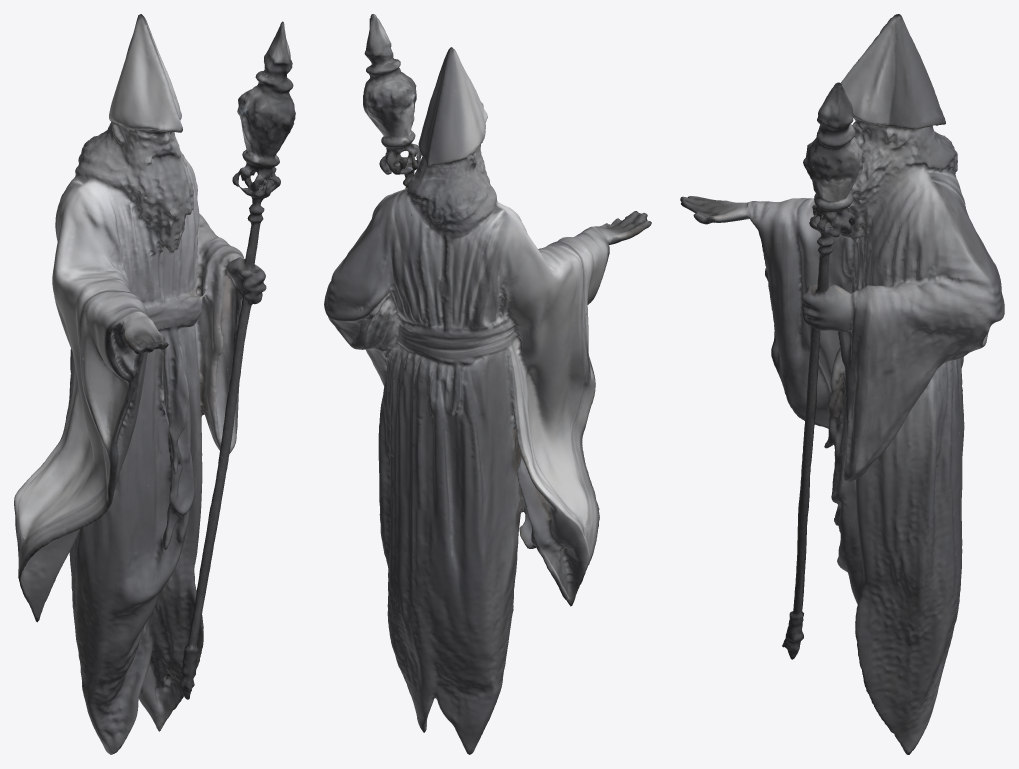
The model's file is Bishop.fbx.
3 views of the same model, side by side, from view 1: azimuth 30°, elevation 25°; view 2: azimuth 150°, elevation 25°; view 3: azimuth 270°, elevation 25° (orthographic). The views are drawn at different scales.
Visible parts, largest first — view 1: Mesh_0; view 2: Mesh_0; view 3: Mesh_0.
Boxes of the visible parts, x1=… form: Mesh_0: x1=14, y1=14, x2=295, y2=754; Mesh_0: x1=324, y1=14, x2=651, y2=754; Mesh_0: x1=680, y1=14, x2=1004, y2=754.
Bounding box in the file's own units: 72.59 × 200 × 79.48.
Materials: 1 (1 with a texture image).
